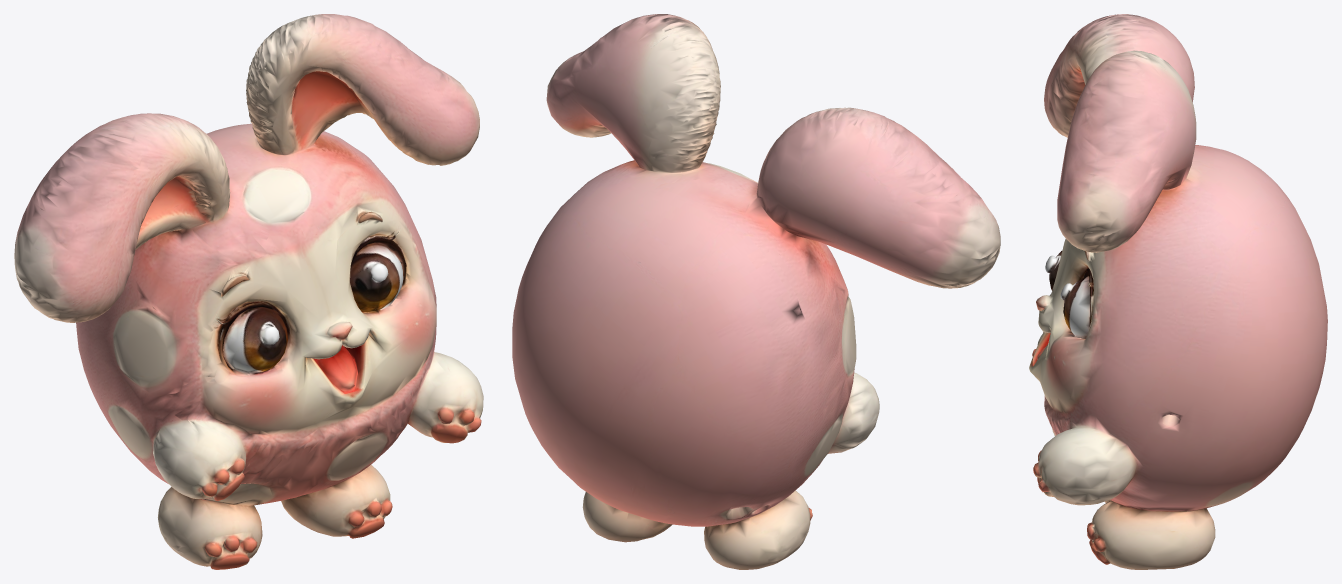
The model's file is dicebun.glb.
The picture shows the model from 3 angles, left to right: view 1: azimuth 30°, elevation 25°; view 2: azimuth 150°, elevation 25°; view 3: azimuth 270°, elevation 25°; orthographic projection. The views are drawn at different scales.
Parts seen in each view (by area): view 1: node_0; view 2: node_0; view 3: node_0.
Boxes of the visible parts, x1,y1,x2,y2 form: node_0: (14, 14, 483, 569); node_0: (512, 14, 1000, 569); node_0: (1029, 14, 1327, 569).
Size of the model in its own units: 0.9154 by 1 by 0.5516.
1 material, 1 textured.
